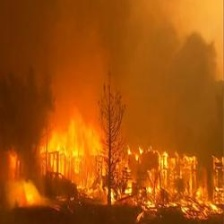fire: (40, 123, 224, 204)
smoke: (78, 12, 224, 101)
